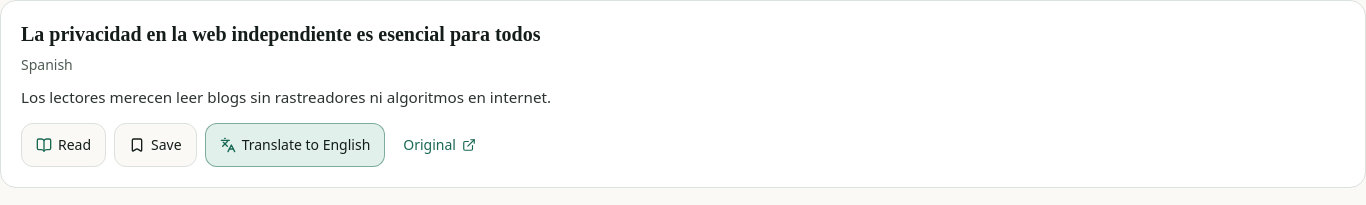
1. Preferred languages & article translation › detects non-preferred article languages and translates on click
Click the button "Translate to English" at x=295, y=145, box 205,123 -> 385,167
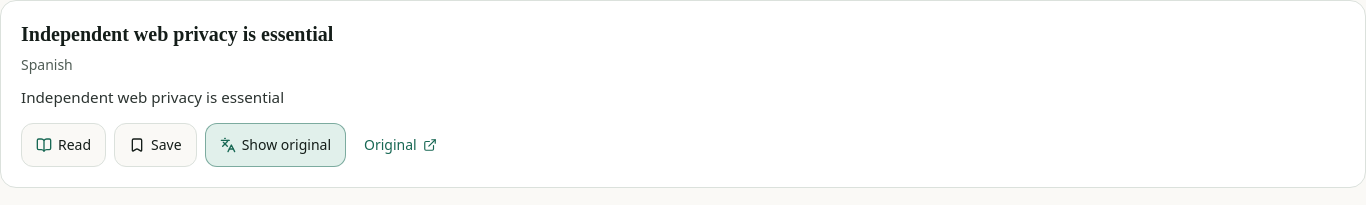
Now the heading "Independent web privacy is essential" is shown, box 21,23 -> 333,45
Now the button "Show original" is shown, box 205,123 -> 346,167
